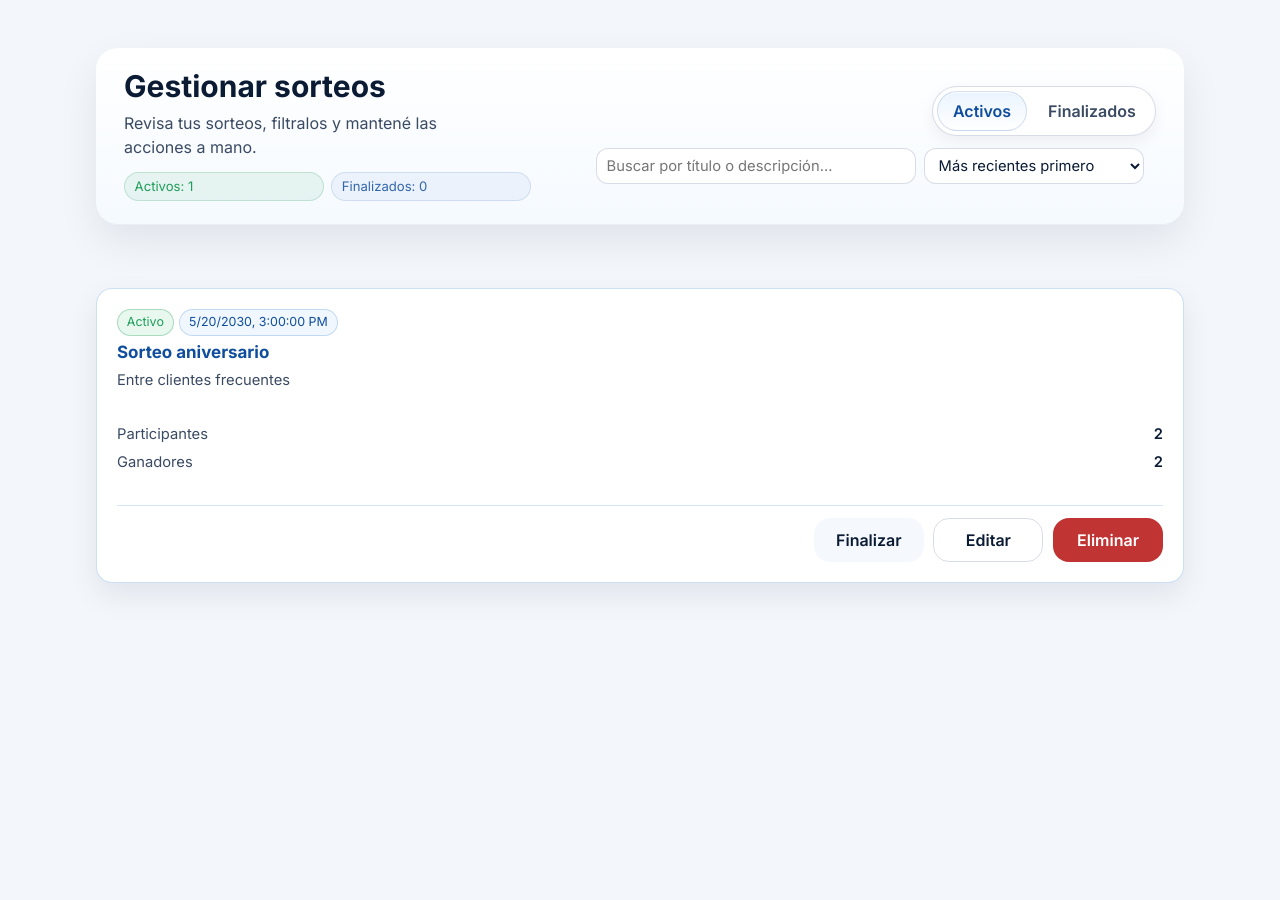
ManageRaffles › impide enviar cambios cuando la fecha queda vacía
Click the button "Editar" at point(988, 540), box [933,518,1043,562]
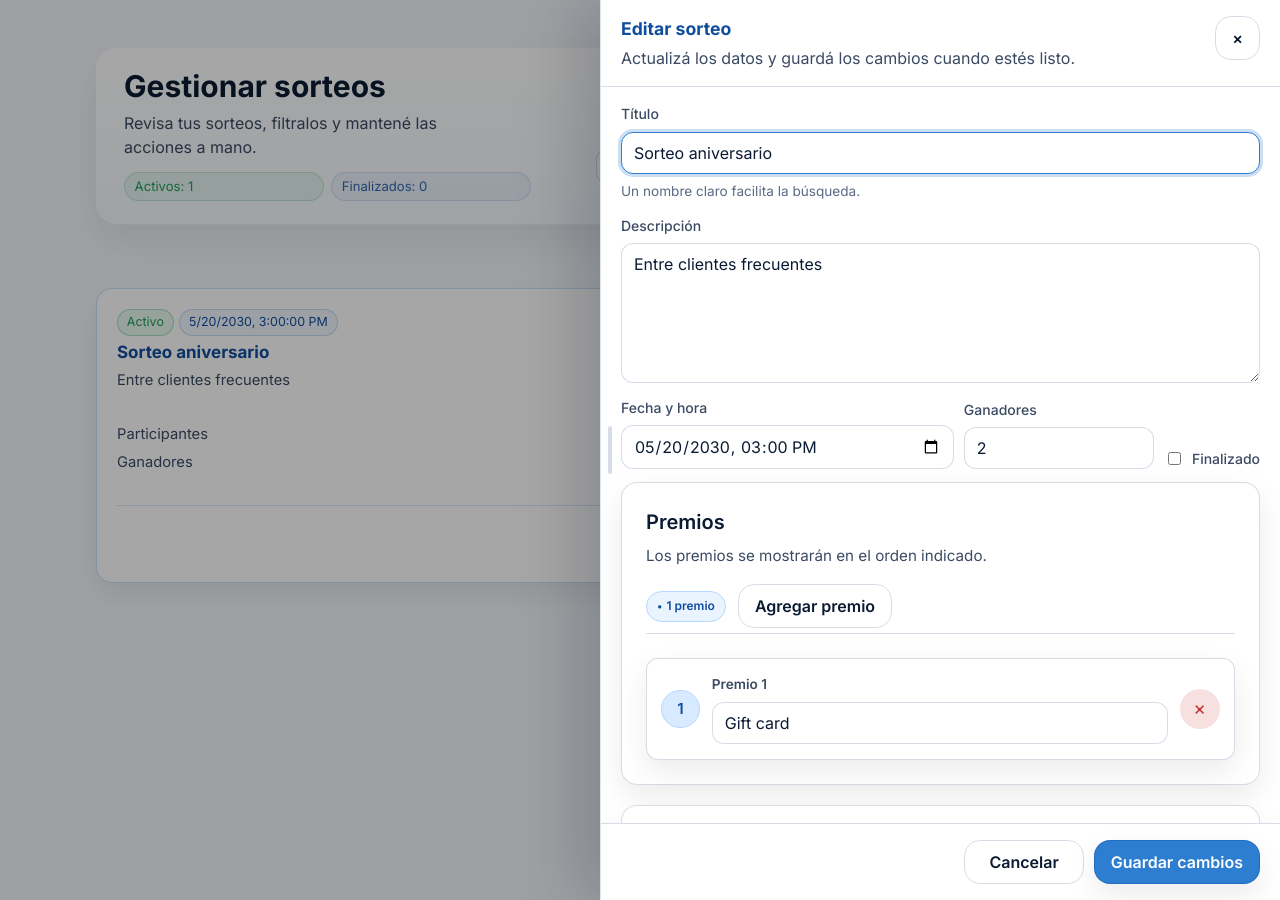
Clear the field labelled "Fecha y hora" at point(788, 447), box [621,425,954,469]
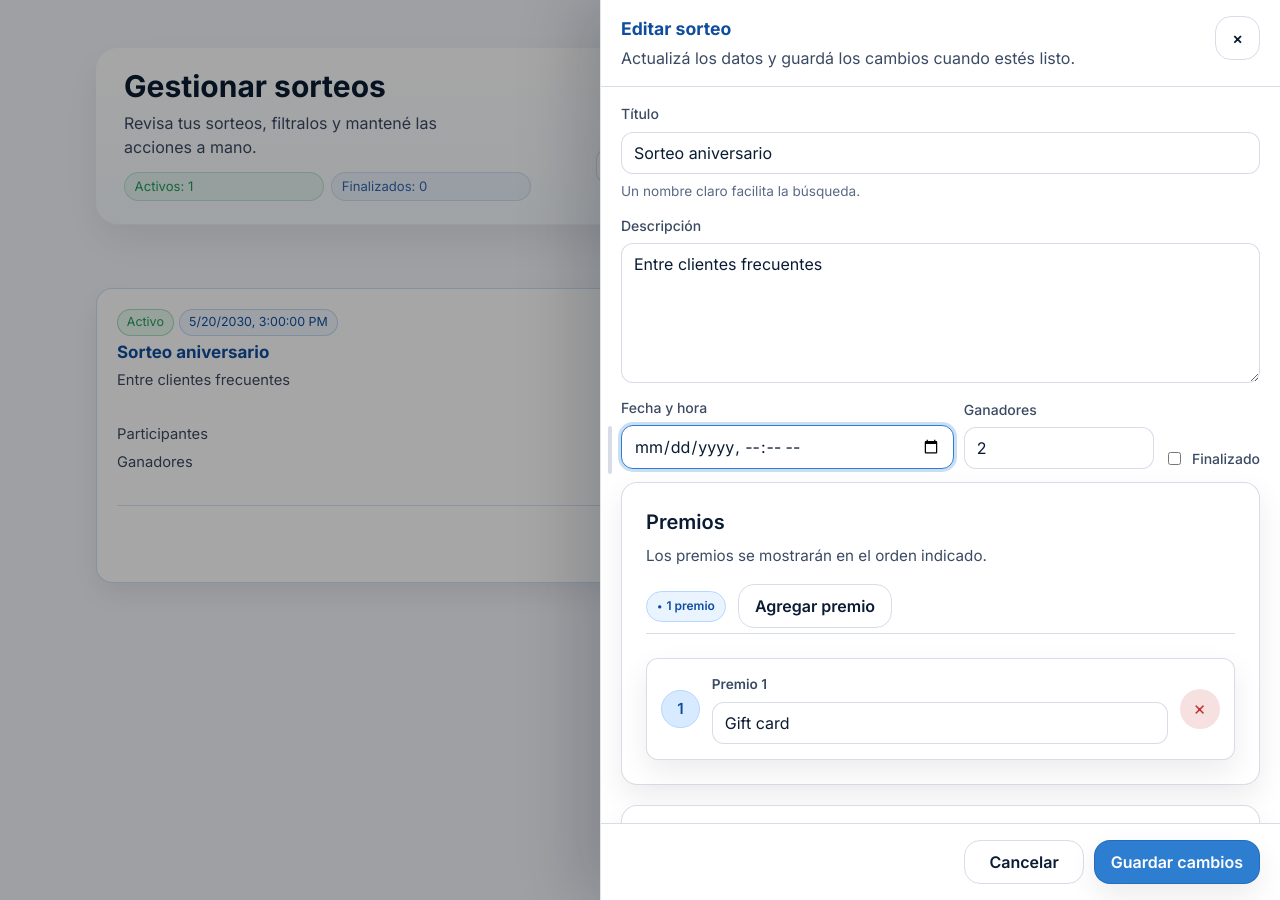
Click the button "Guardar cambios" at point(1177, 862), box [1094,840,1260,884]
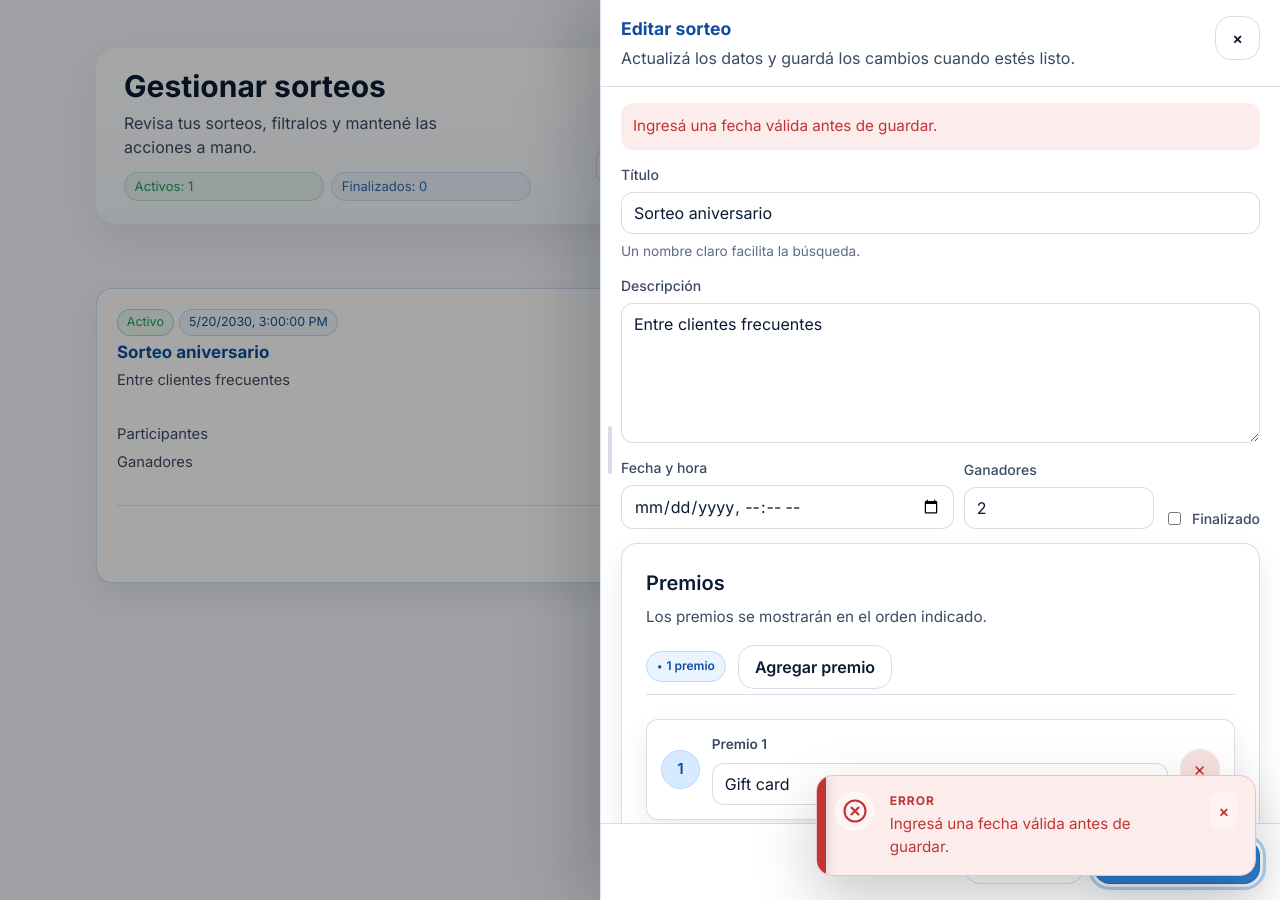
Check: the dialog "Editar sorteo" is shown
Check: the message "Ingresá una fecha válida antes de guardar." is shown, box [621,103,1260,150]
